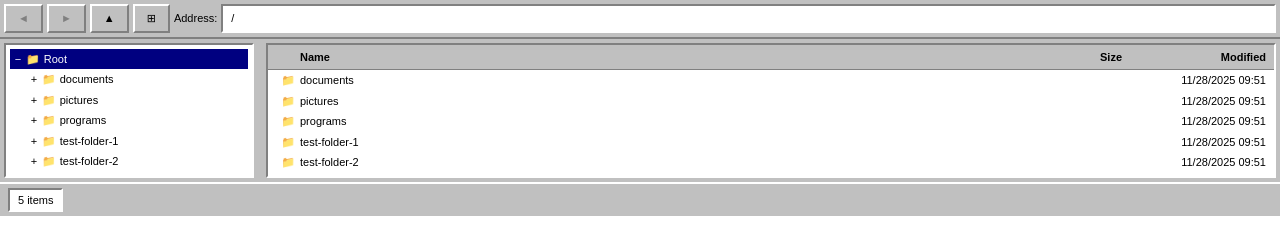
Explorer - Navigation History Management › should add new path to history when navigating
The width and height of the screenshot is (1280, 233).
Note: Navigate to a folder by double-clicking - get from file list (second occurrence)
Double-click the text "test-folder-1" below "Name" at {"x": 329, "y": 142}, box [300,136,359,148]
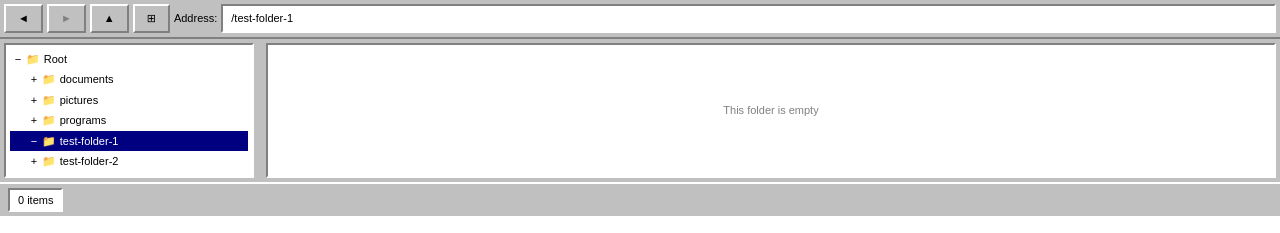
Now the field named "Address bar" holds "/test-folder-1", box [221,4,1276,32]
